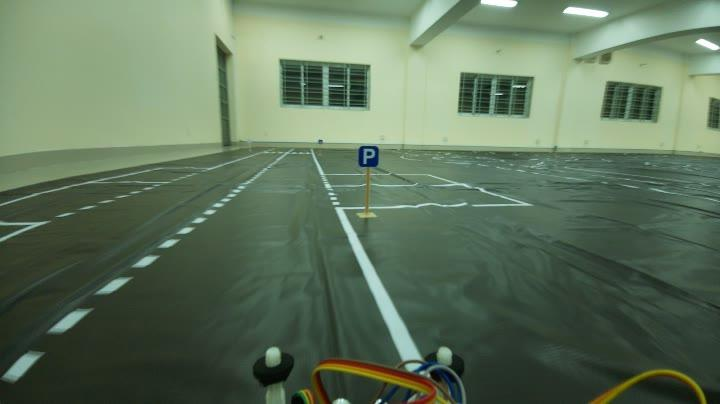parking: (352, 142, 388, 171)
